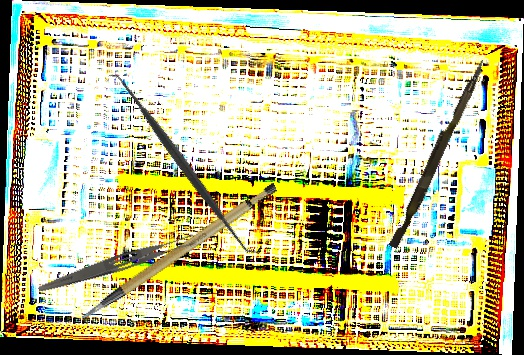Dressing Forceps: (36, 229, 198, 301)
Pusher: (388, 55, 487, 252)
Scalpel Handle: (64, 179, 291, 321)
Spatula Surgical: (105, 63, 263, 266)
